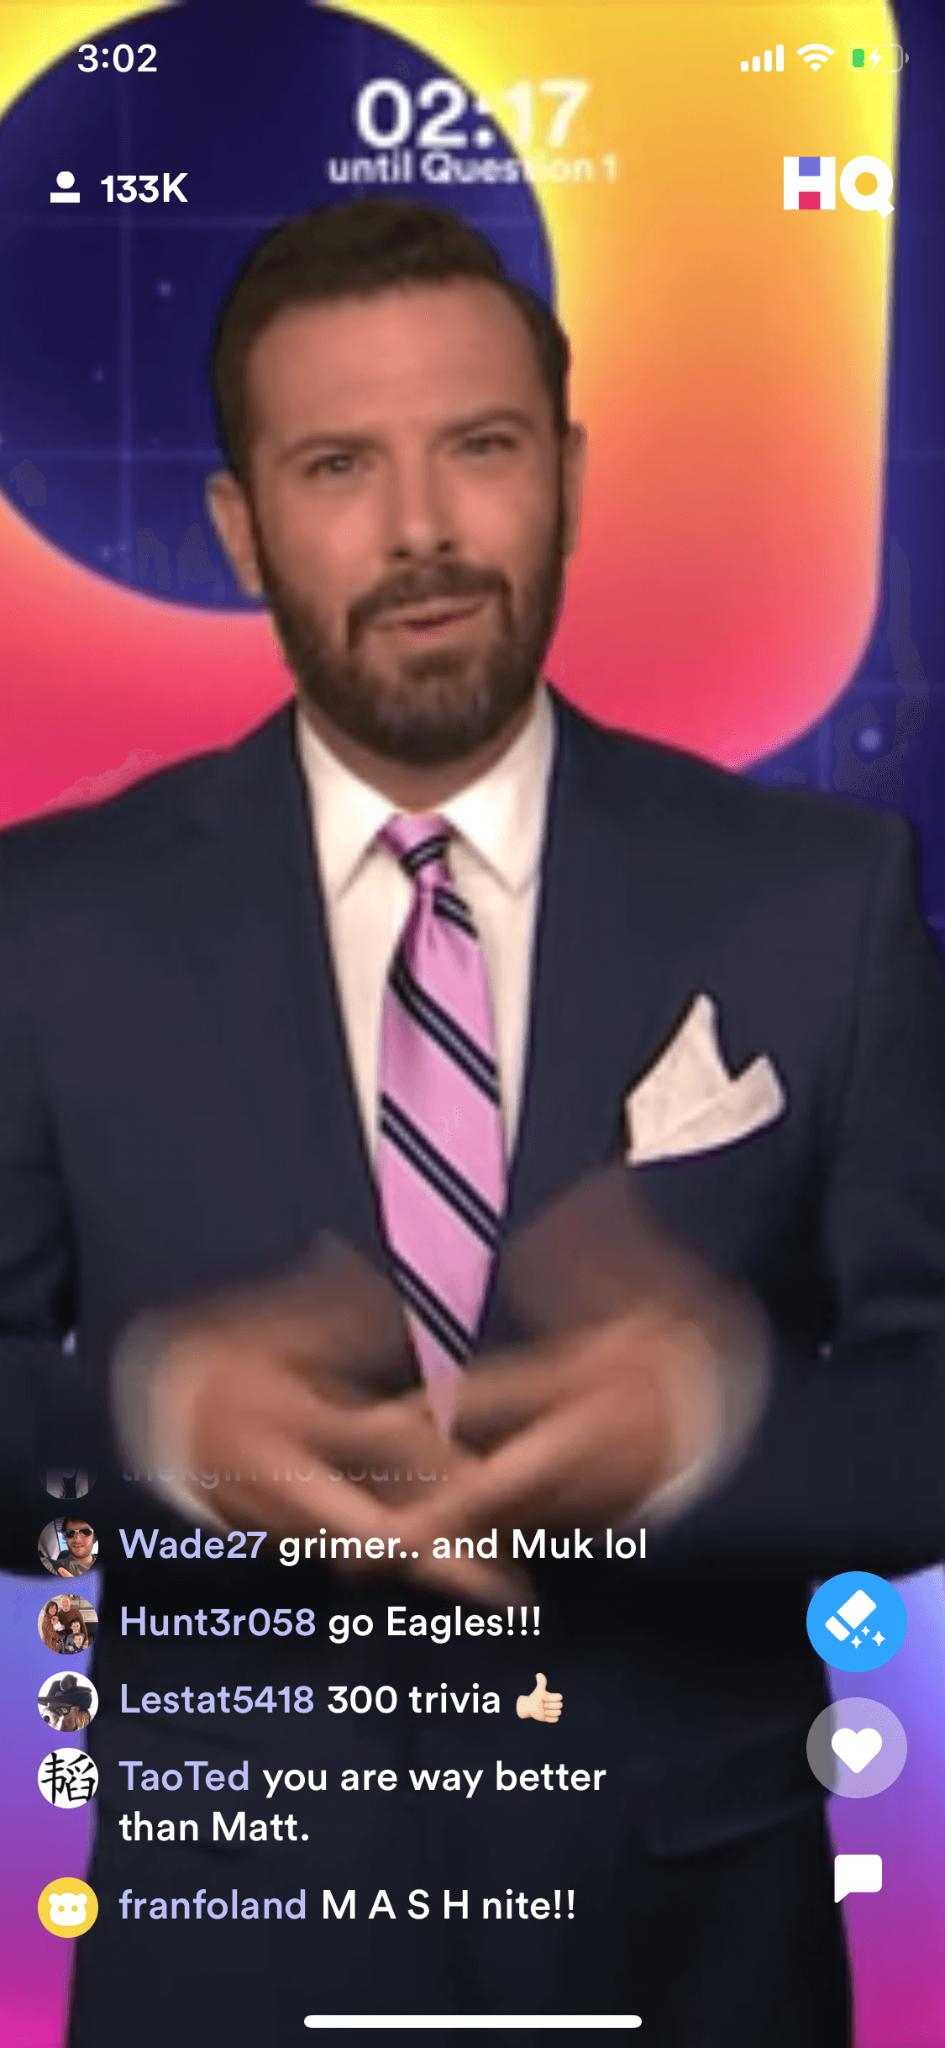FAB (Floating Action Button): (803, 1569, 911, 1678), (811, 1688, 912, 1804), (822, 1839, 914, 1930)
